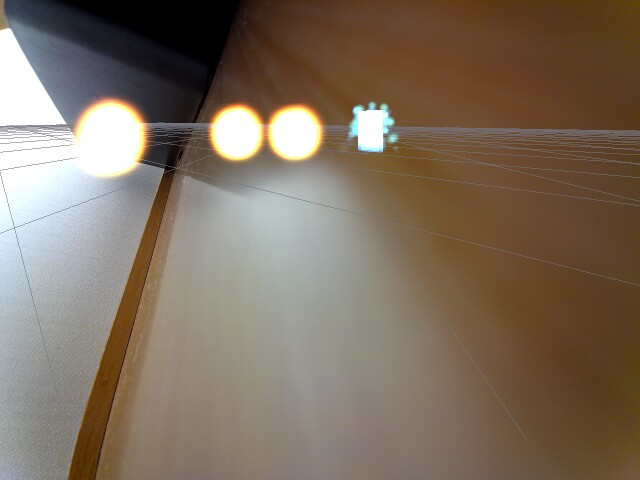firebig: (71, 88, 150, 183)
